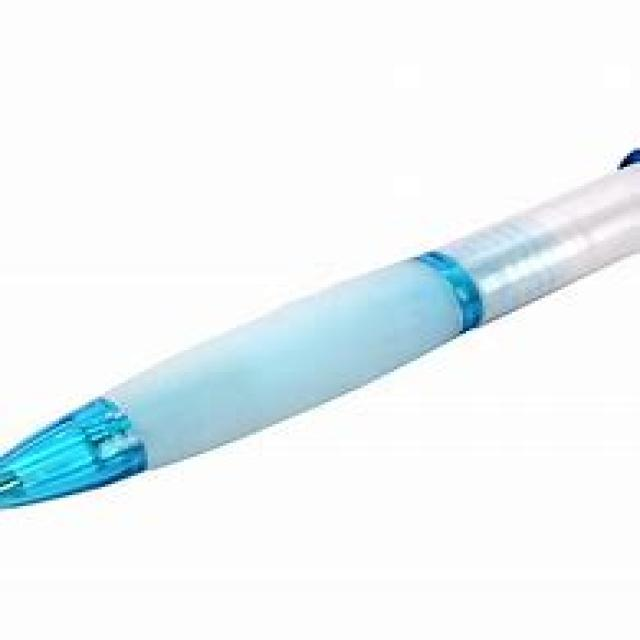pen: (0, 148, 640, 515)
